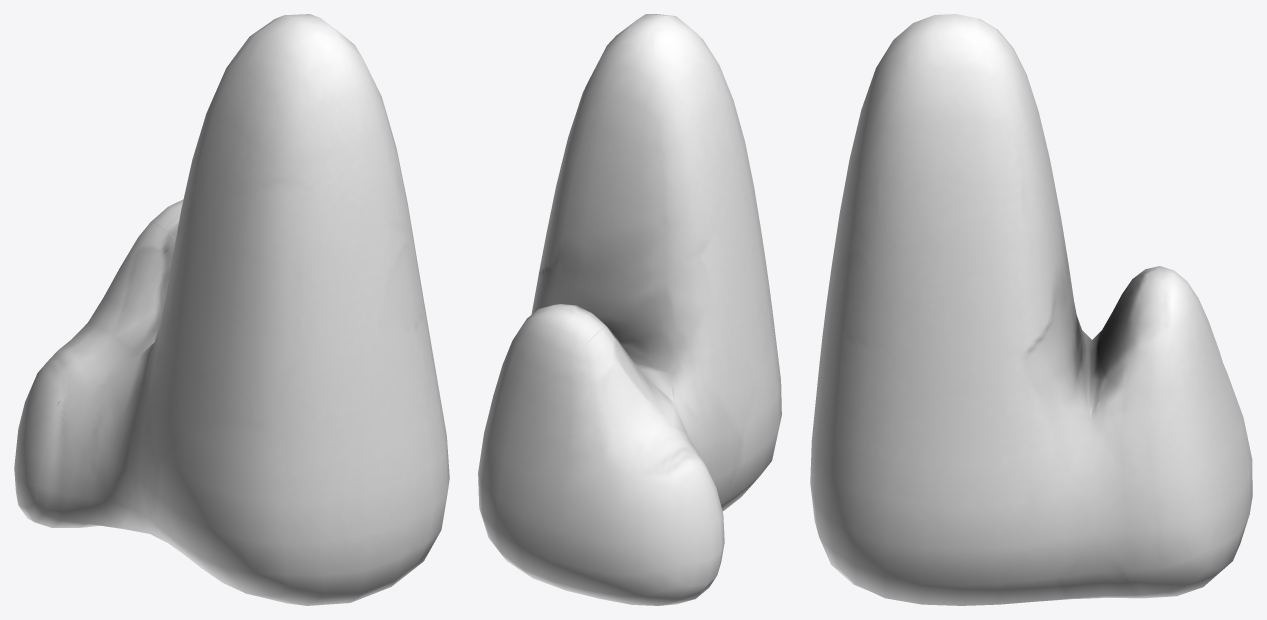
Rendered from Rock1LowPolyBroken.fbx.
3 views of the same model, side by side, from view 1: azimuth 30°, elevation 25°; view 2: azimuth 150°, elevation 25°; view 3: azimuth 270°, elevation 25° (orthographic). The views are drawn at different scales.
Parts seen in each view (by area): view 1: pCube1; view 2: pCube1; view 3: pCube1.
Boxes of the visible parts, x1=… form: pCube1: x1=14, y1=14, x2=449, y2=605; pCube1: x1=478, y1=14, x2=781, y2=605; pCube1: x1=810, y1=14, x2=1252, y2=605.
Bounding box in the file's own units: 2.02 × 3.54 × 2.5.
